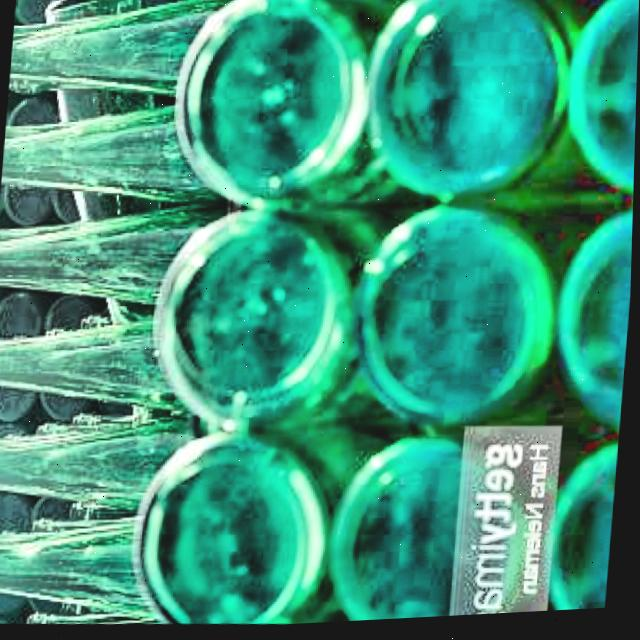glass: (176, 0, 640, 632), (0, 0, 195, 632)
